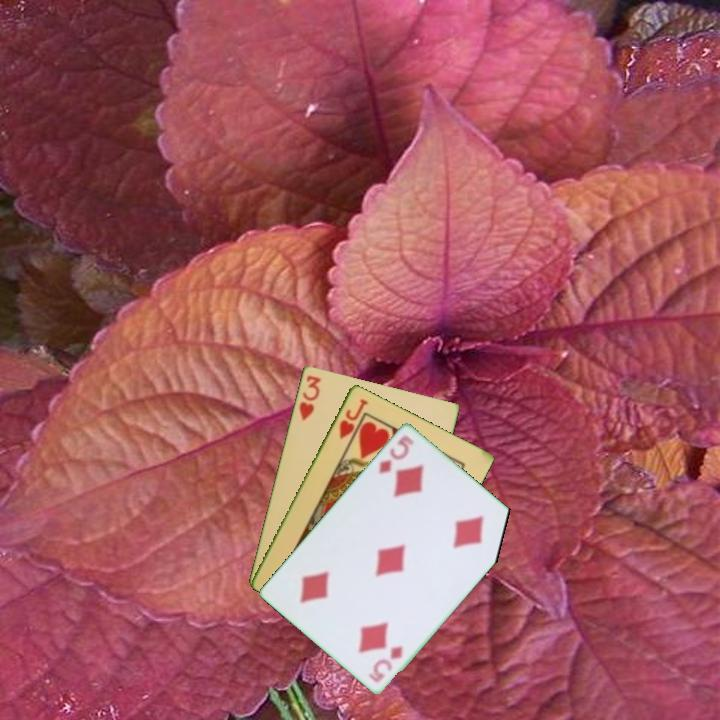3h: (295, 371, 323, 423)
5d: (374, 431, 417, 476), (365, 641, 406, 685)
Jh: (335, 395, 370, 442)
